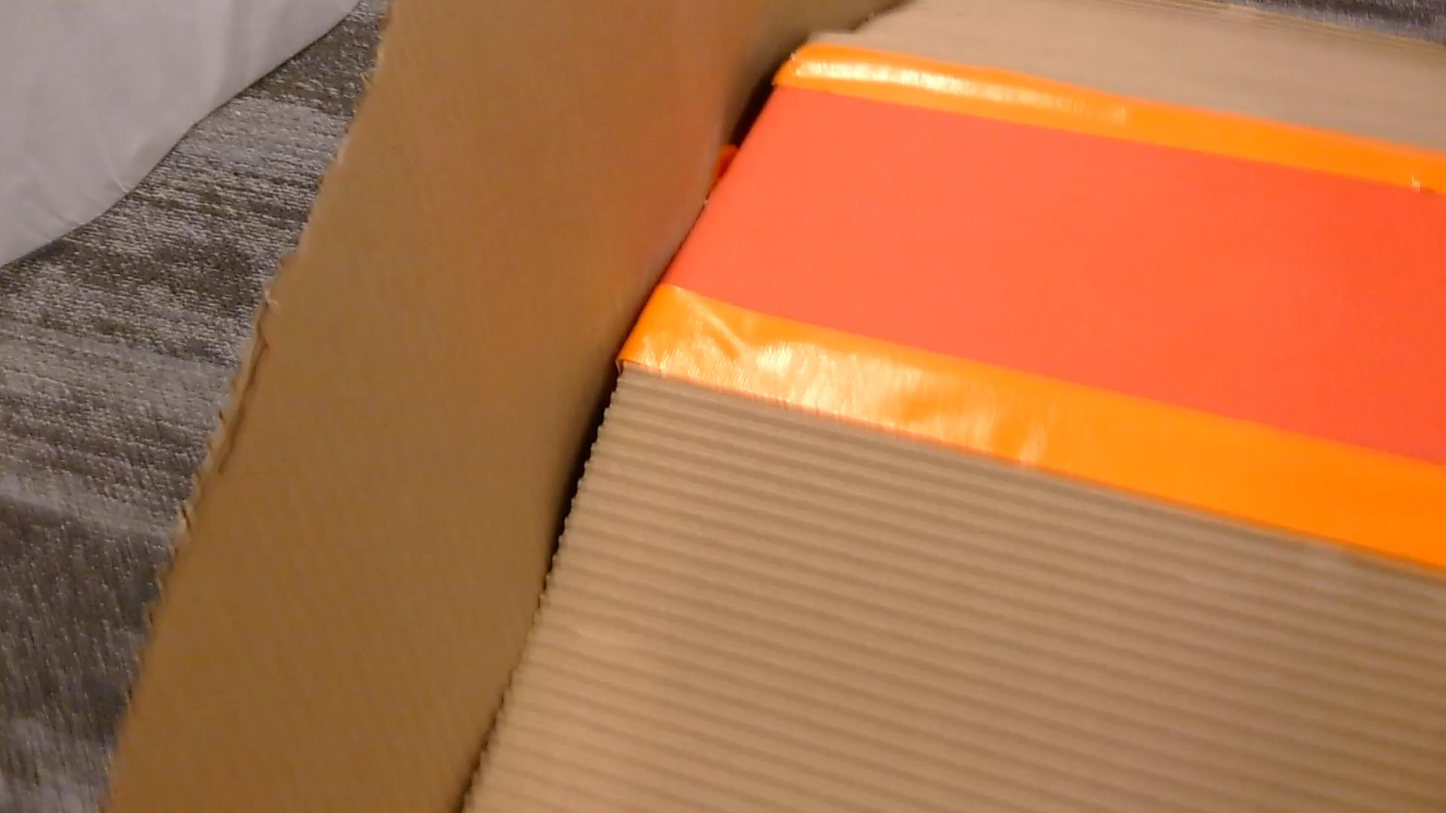Ramp: (105, 0, 1445, 812)
